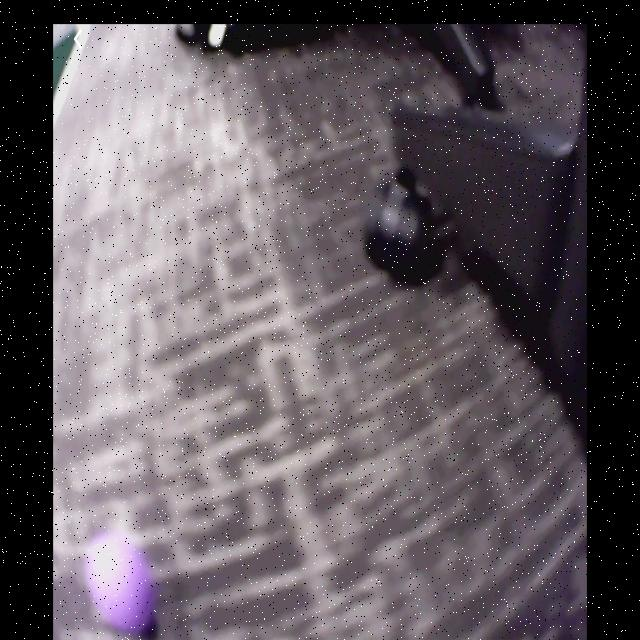ball: (86, 535, 158, 633)
